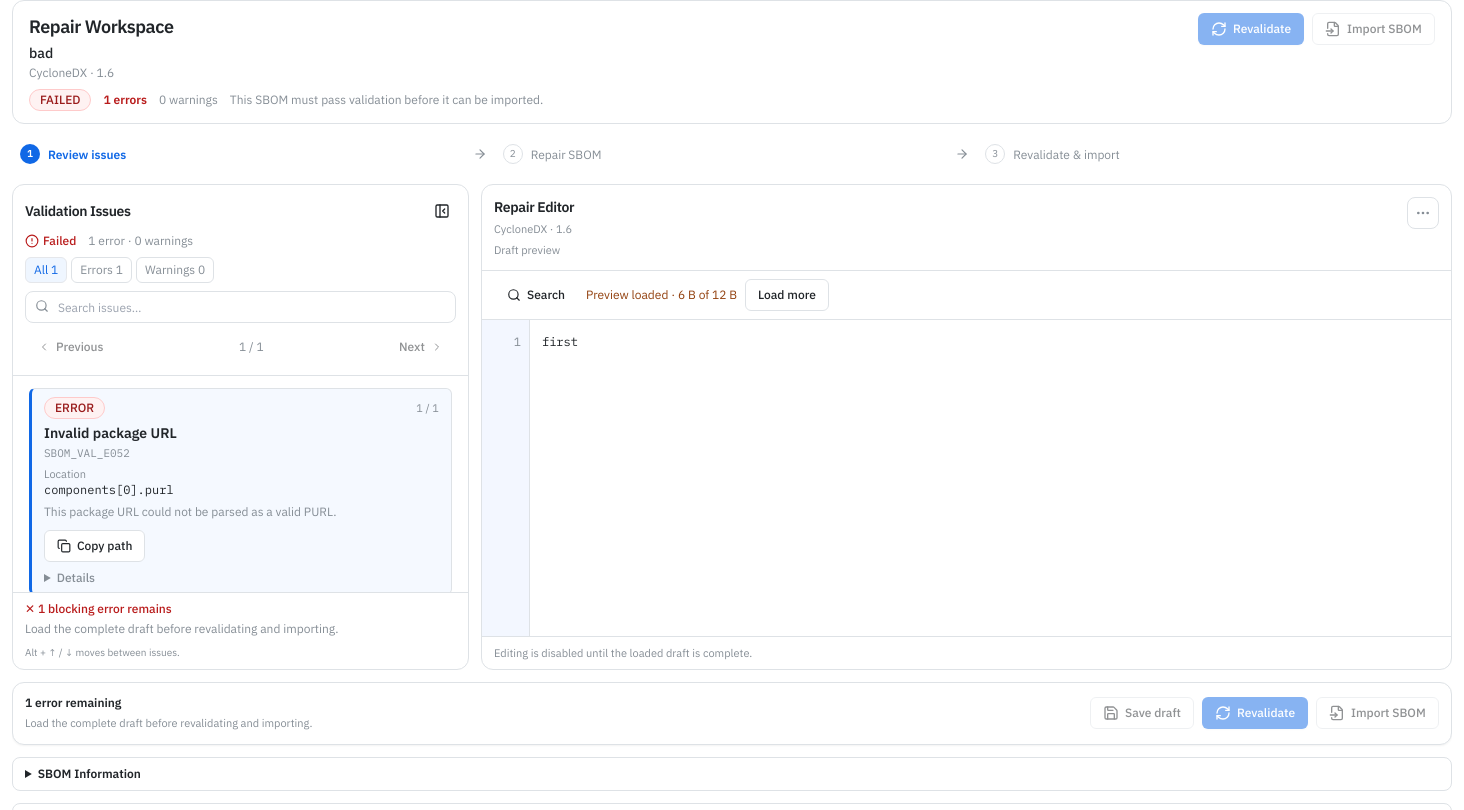
Scenario: ValidationRepairWorkspace › loads more content before enabling full-draft editing for partial chunks
The width and height of the screenshot is (1464, 810).
Expected: the text box named "SBOM repair editor" holds "first ", [530,320,1451,636]
Expected: the text box named "SBOM repair editor" is disabled, [530,320,1451,636]
Click the button "Load more".
click(787, 295)  # box [745,279,829,311]
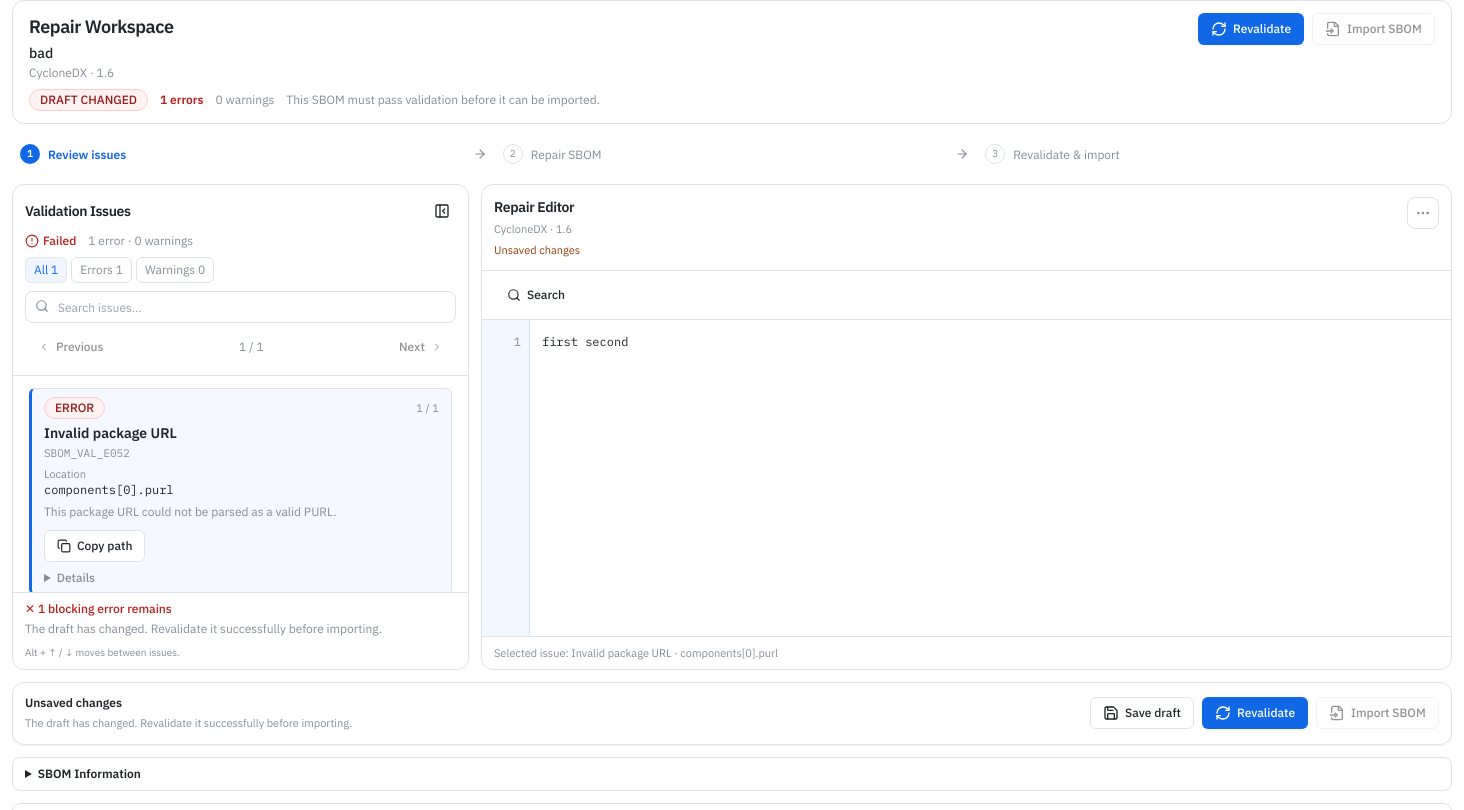
Expected: the text box named "SBOM repair editor" is enabled, [530,320,1451,636]
Expected: the text box named "SBOM repair editor" holds "first second", [530,320,1451,636]
